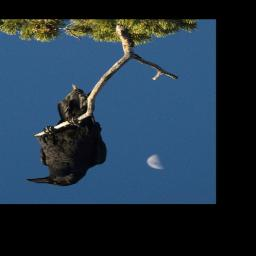Crow: (23, 82, 108, 187)
